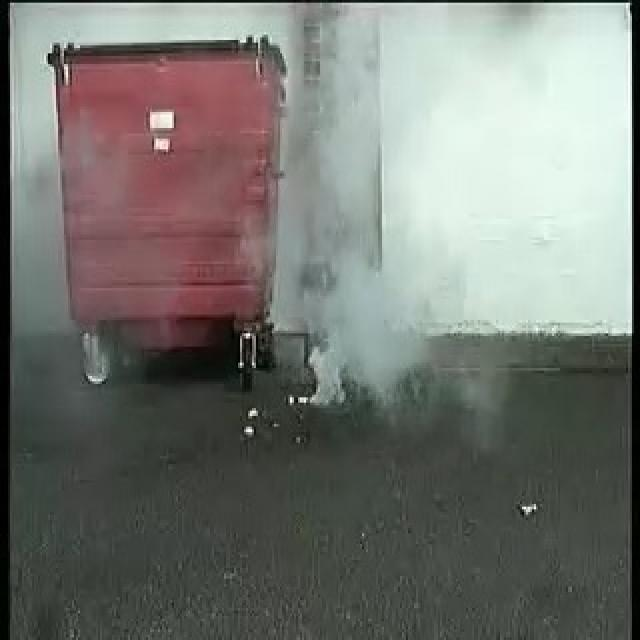smoke: (276, 67, 432, 409)
